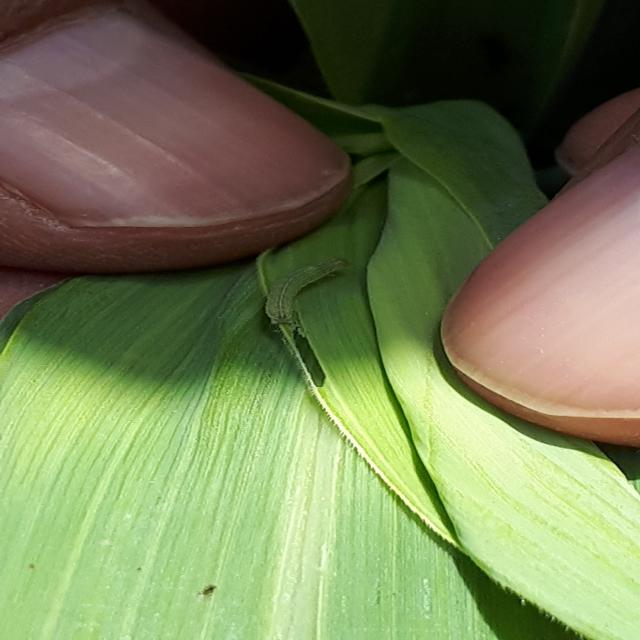armyworm: (258, 254, 379, 332)
